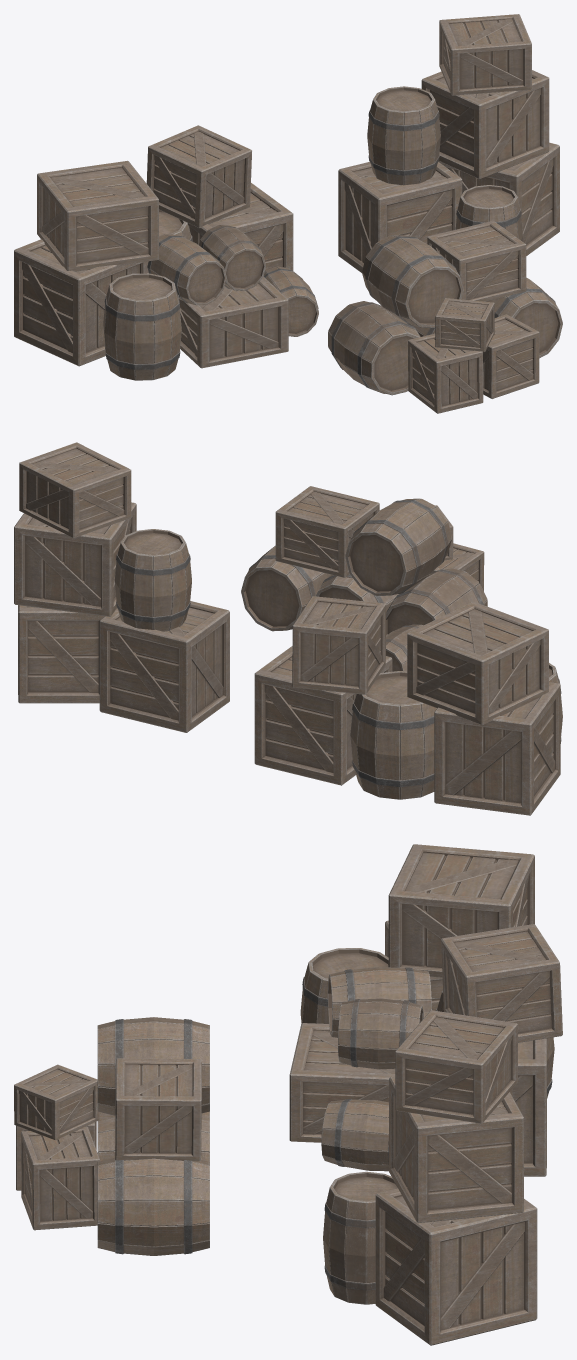
File: Crate_And_Barrel_Stacks_2.fbx
3 views of the same model, one above another, from view 1: azimuth 30°, elevation 25°; view 2: azimuth 150°, elevation 25°; view 3: azimuth 270°, elevation 25° (orthographic). The views are drawn at different scales.
Parts seen in each view (by area): view 1: Crate_And_Barrel_Stack_1A6, Crate_And_Barrel_Stack_1A5, Crate_And_Barrel_Stack_1A7; view 2: Crate_And_Barrel_Stack_1A6, Crate_And_Barrel_Stack_1A5, Crate_And_Barrel_Stack_1A7; view 3: Crate_And_Barrel_Stack_1A6, Crate_And_Barrel_Stack_1A5, Crate_And_Barrel_Stack_1A7.
Part boxes in pixels (x1,y1,x2,y2): Crate_And_Barrel_Stack_1A6: (14, 125, 318, 380); Crate_And_Barrel_Stack_1A5: (338, 14, 559, 272); Crate_And_Barrel_Stack_1A7: (328, 221, 562, 413); Crate_And_Barrel_Stack_1A6: (254, 596, 562, 815); Crate_And_Barrel_Stack_1A5: (14, 442, 229, 732); Crate_And_Barrel_Stack_1A7: (241, 486, 487, 635); Crate_And_Barrel_Stack_1A6: (289, 844, 562, 1176); Crate_And_Barrel_Stack_1A5: (323, 1010, 537, 1345); Crate_And_Barrel_Stack_1A7: (14, 1017, 209, 1255).
Size of the model in its own units: 827 by 328 by 591.
